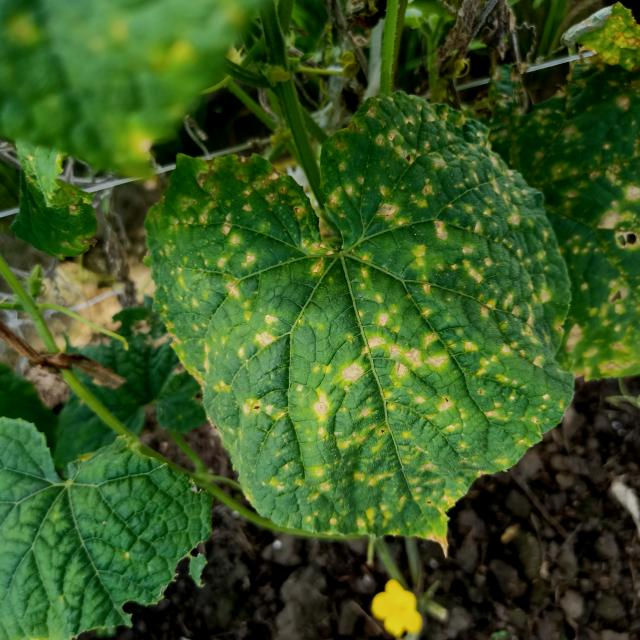disease_cucumber: (154, 96, 565, 534), (498, 42, 640, 383)
